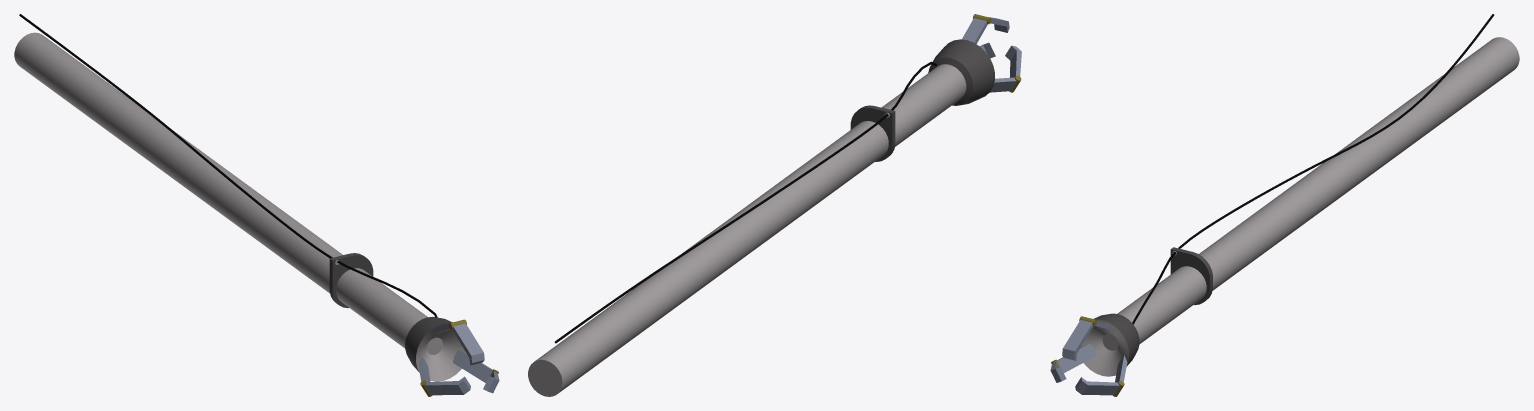
File: Mech_Arm_Mesh.fbx
3 views of the same model, side by side, from view 1: azimuth 30°, elevation 25°; view 2: azimuth 150°, elevation 25°; view 3: azimuth 330°, elevation 25° (orthographic). The views are drawn at different scales.
Parts seen in each view (by area): view 1: Arm.002; view 2: Arm.002; view 3: Arm.002.
Boxes of the visible parts, x1,y1,x2,y2 form: Arm.002: [14, 14, 499, 396]; Arm.002: [528, 14, 1021, 396]; Arm.002: [1050, 14, 1519, 396].
Bounding box in the file's own units: 46.5 × 41.7 × 473.
